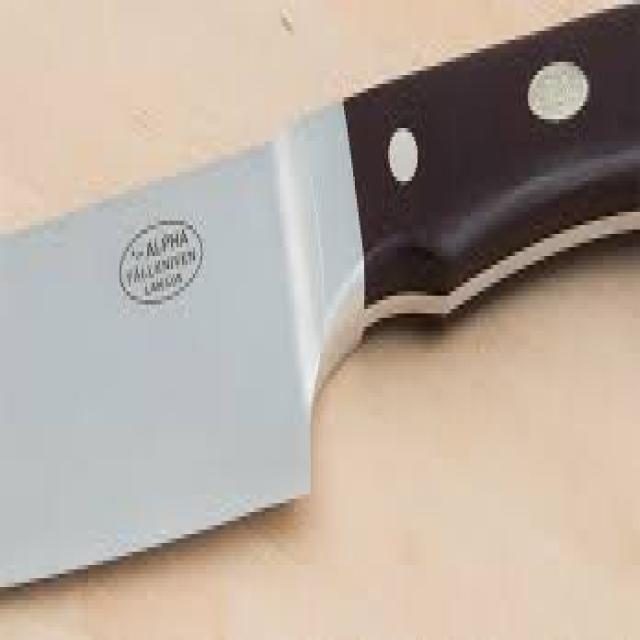knives: (0, 0, 638, 605)
